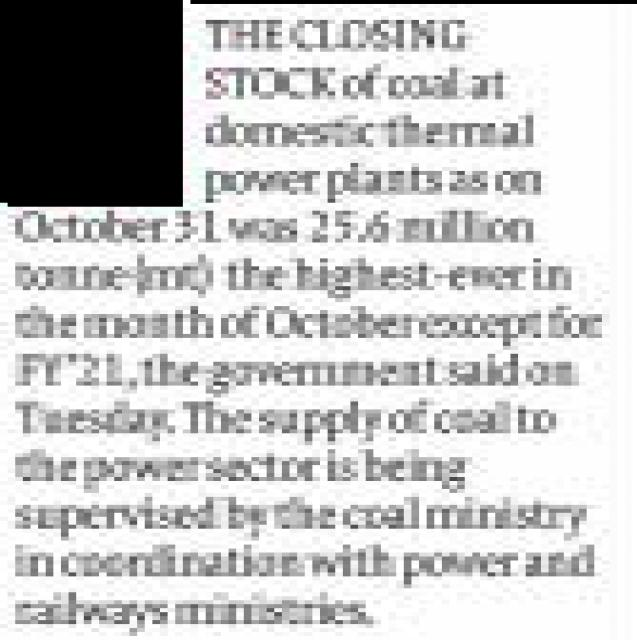paper: (0, 1, 637, 640)
